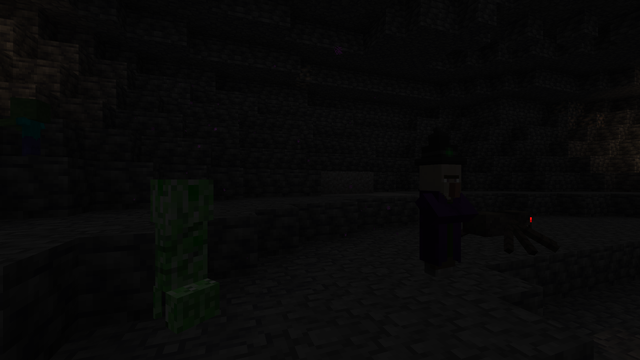araignees: (476, 205, 552, 254)
creepers: (146, 172, 210, 331)
sorcieres: (414, 159, 467, 281)
zombies: (14, 106, 46, 148)
